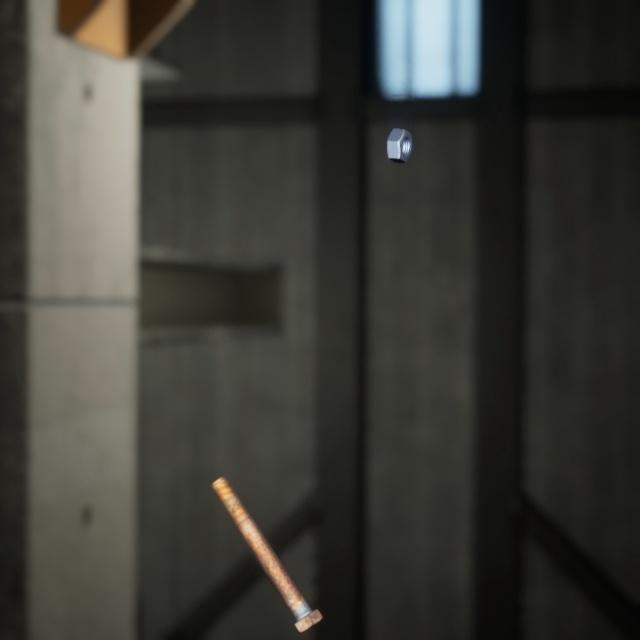bolt: (206, 449, 327, 615)
nut: (382, 112, 417, 155)
